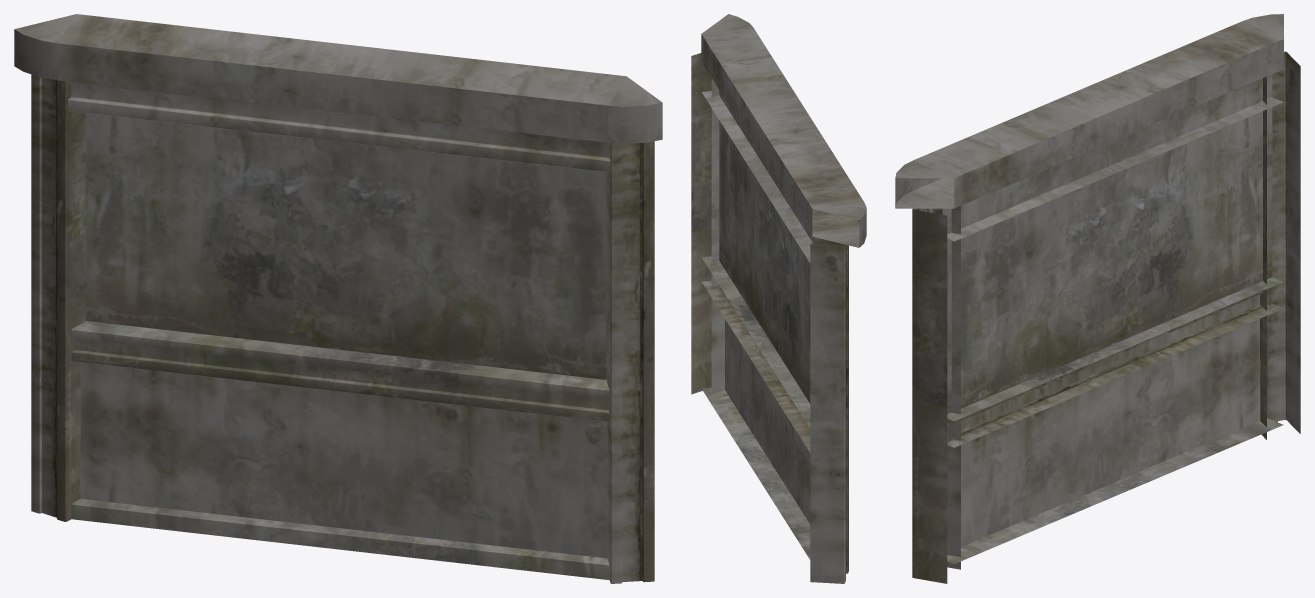
The model's file is Psychiatric_Ward_Guards_Room_Exterior_Wall_45_Degree.glb.
3 views of the same model, side by side, from view 1: azimuth 30°, elevation 25°; view 2: azimuth 150°, elevation 25°; view 3: azimuth 270°, elevation 25° (orthographic). The views are drawn at different scales.
Parts seen in each view (by area): view 1: Psychiatric_Ward_Guards_Room_Exterior_Wall_45_Degree; view 2: Psychiatric_Ward_Guards_Room_Exterior_Wall_45_Degree; view 3: Psychiatric_Ward_Guards_Room_Exterior_Wall_45_Degree.
Part boxes in pixels (x1,y1,x2,y2): Psychiatric_Ward_Guards_Room_Exterior_Wall_45_Degree: [14, 14, 662, 583]; Psychiatric_Ward_Guards_Room_Exterior_Wall_45_Degree: [691, 14, 866, 583]; Psychiatric_Ward_Guards_Room_Exterior_Wall_45_Degree: [895, 14, 1300, 583].
Bounding box in the file's own units: 2.46 × 2.67 × 2.46.
2 materials, 2 textured.
